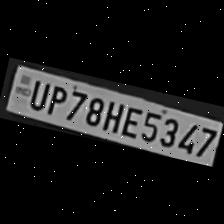3: (156, 112, 181, 148)
4: (175, 116, 201, 153)
5: (138, 106, 164, 142)
7: (61, 85, 88, 122), (192, 122, 218, 159)
8: (81, 91, 107, 127)
E: (119, 102, 144, 138)
H: (100, 96, 126, 132)
P: (42, 80, 68, 116)
U: (23, 75, 50, 112)
